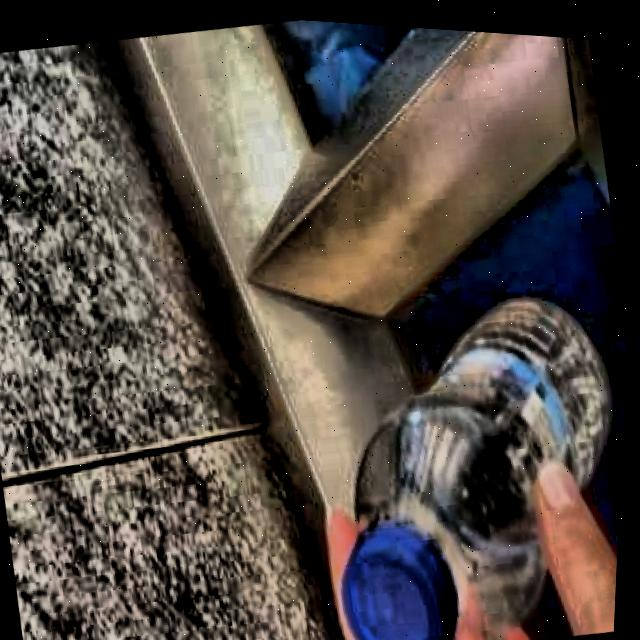plastic: (347, 290, 616, 640)
